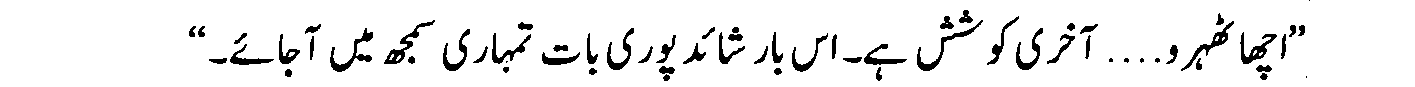bay_shosha: (769, 50, 784, 75)
